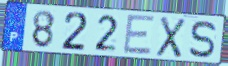2: (60, 10, 90, 53), (95, 14, 120, 54)
8: (32, 9, 56, 50)
E: (122, 13, 157, 57)
S: (188, 19, 218, 59)
X: (155, 15, 188, 60)
